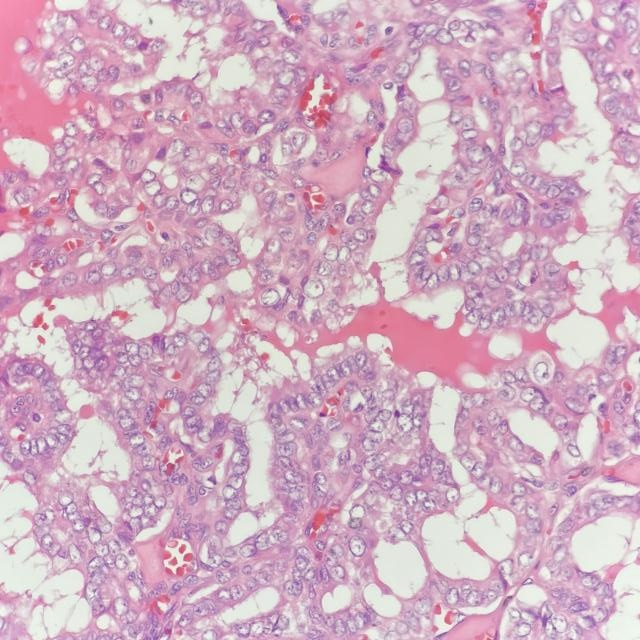TC: (420, 227, 449, 260), (297, 274, 328, 303), (255, 284, 286, 312), (172, 185, 204, 212), (179, 134, 200, 174), (278, 45, 309, 71), (392, 406, 417, 438), (425, 190, 457, 214), (462, 195, 490, 221), (287, 127, 311, 157), (361, 180, 388, 205), (280, 412, 312, 433), (444, 480, 467, 508), (427, 455, 448, 485), (203, 351, 228, 376), (180, 412, 205, 437), (316, 240, 343, 263), (223, 245, 246, 272), (349, 225, 377, 247), (346, 534, 371, 558), (204, 219, 230, 242), (170, 324, 189, 354), (362, 452, 385, 476), (198, 193, 219, 219), (159, 246, 176, 278), (395, 464, 417, 488), (263, 232, 284, 257), (216, 172, 241, 193), (192, 379, 217, 400), (268, 456, 296, 474), (386, 482, 406, 507), (283, 501, 310, 519), (334, 357, 354, 381), (257, 105, 279, 126), (231, 105, 249, 130), (306, 384, 322, 412), (220, 474, 248, 490), (418, 491, 437, 514), (382, 526, 409, 542), (435, 263, 451, 288), (270, 443, 297, 457), (186, 264, 202, 286), (351, 349, 369, 368), (310, 470, 330, 487), (210, 520, 231, 536), (358, 384, 370, 405)
